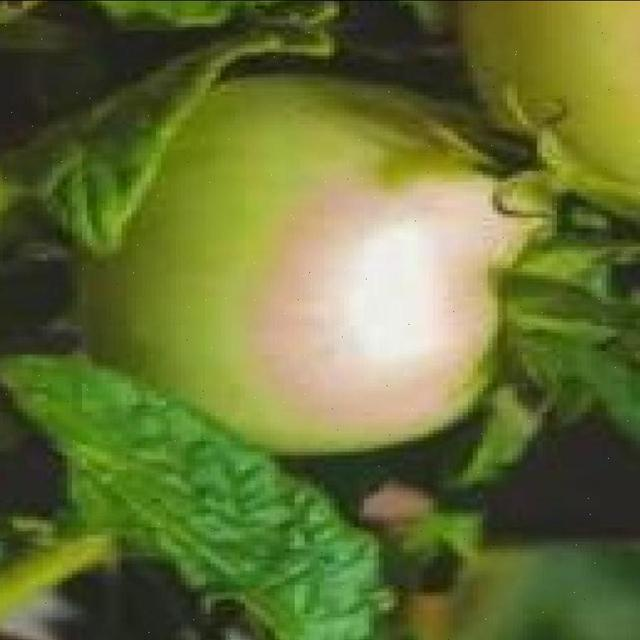Sunscald Fruit: (165, 113, 357, 286)
